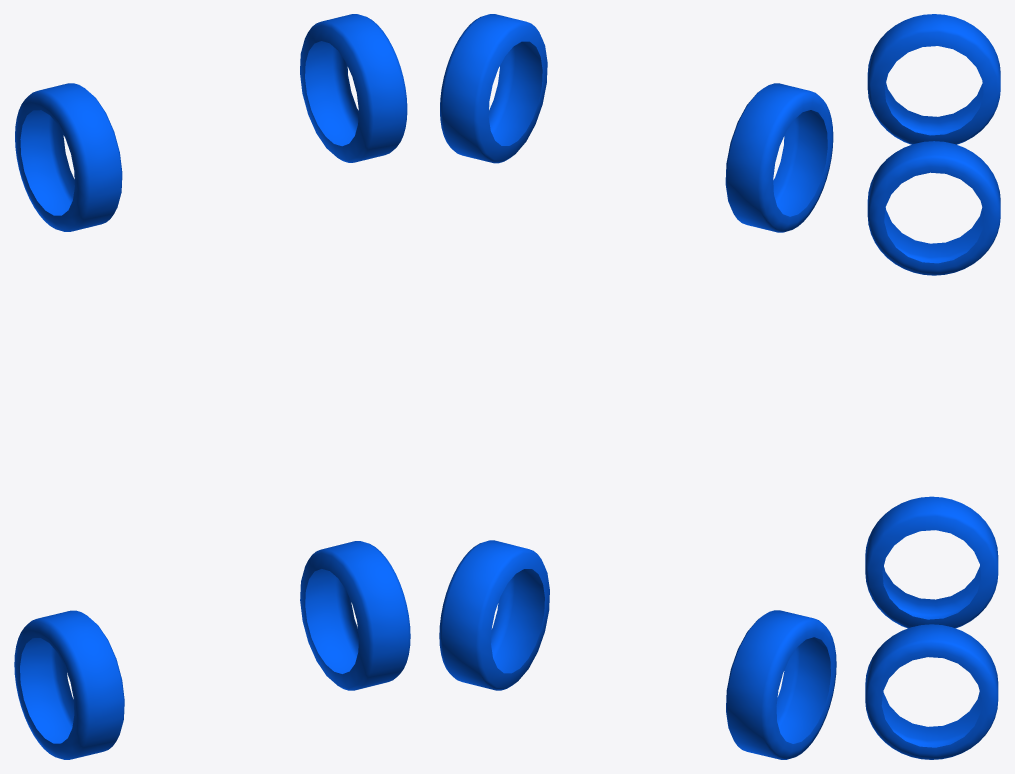
Rendered from Mustang_Tyres_HD001.obj.
3 views of the same model, side by side, from view 1: azimuth 30°, elevation 25°; view 2: azimuth 150°, elevation 25°; view 3: azimuth 270°, elevation 25° (orthographic). The views are drawn at different scales.
Parts seen in each view (by area): view 1: Mustang_Tyres_HD002; view 2: Mustang_Tyres_HD002; view 3: Mustang_Tyres_HD002.
Boxes of the visible parts, x1,y1,x2,y2 form: Mustang_Tyres_HD002: [14, 14, 410, 759]; Mustang_Tyres_HD002: [439, 14, 836, 759]; Mustang_Tyres_HD002: [865, 14, 1000, 759].
Bounding box in the file's own units: 273 × 519 × 105.
